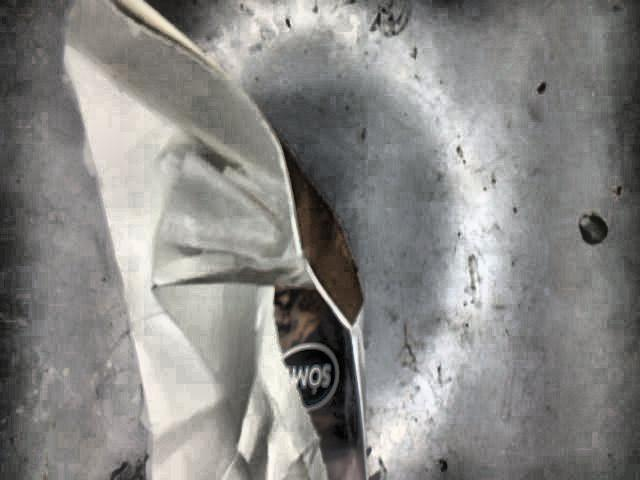Paper: (63, 0, 386, 476)
